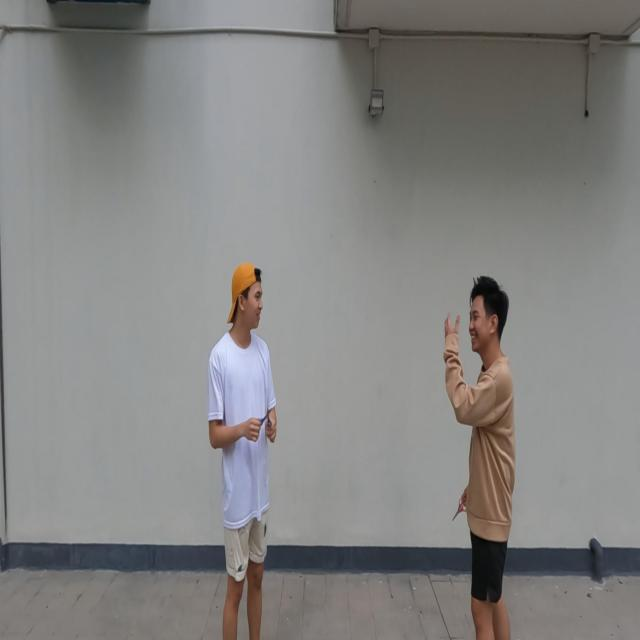scissor: (452, 497, 466, 522), (260, 403, 273, 429)
